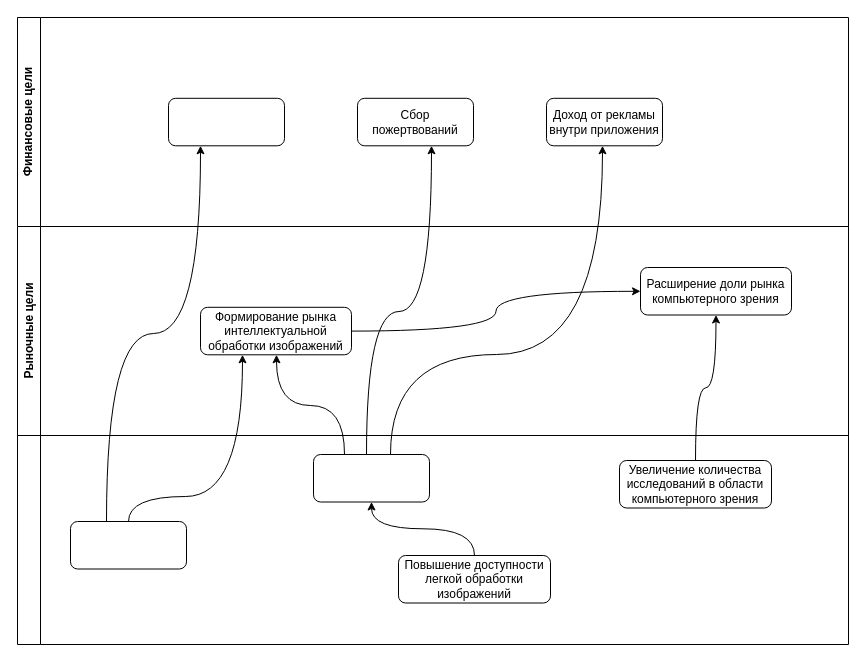
The diagram is 866 pixels wide and 662 high, and some of its shapes have lost their labels. Here are the shapes that lost their labels. From the top down, the box of each, then its label:
(168, 97, 284, 146): Уменьшение затрат на обработку
(312, 454, 430, 502): Повышение интереса к работе с изображениями
(70, 520, 186, 569): Увеличение скорости обработки
(16, 434, 848, 644): Внутренние цели
